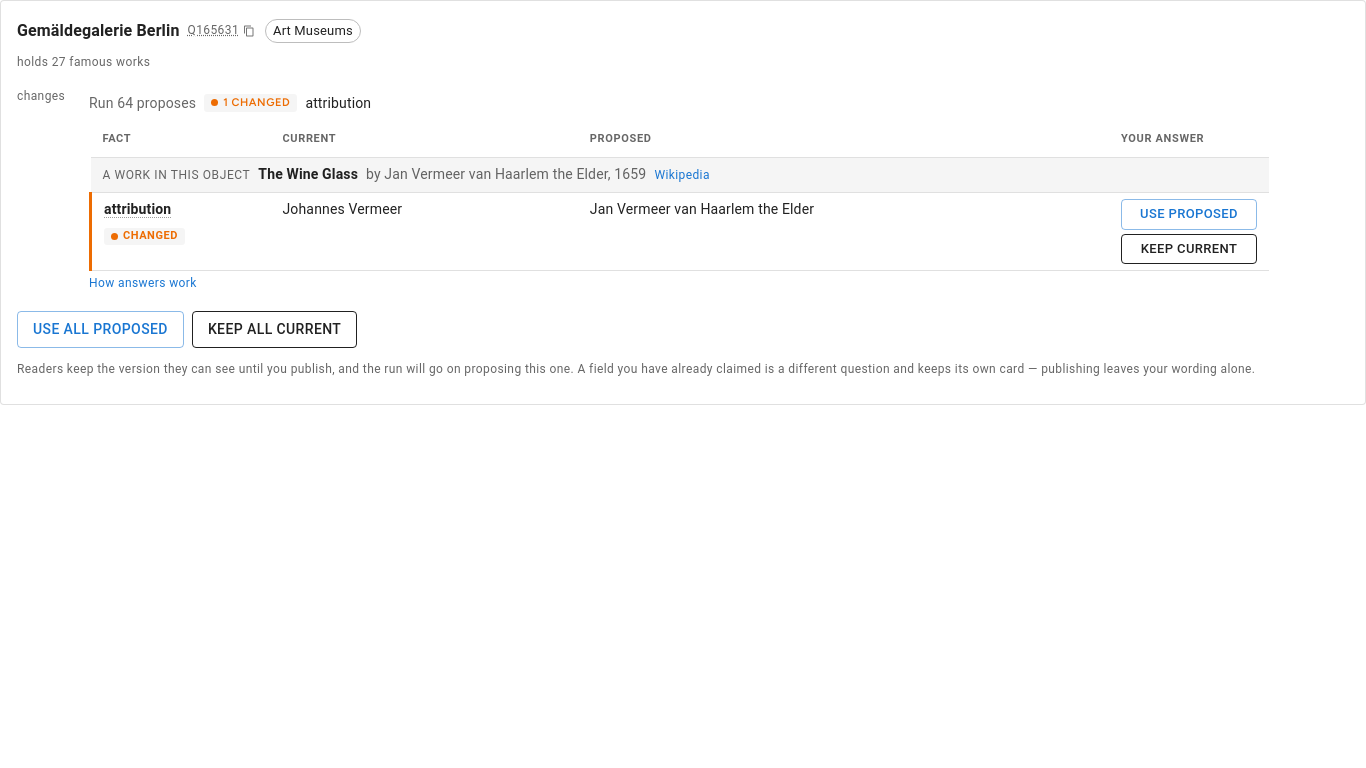
it: a held card about a part › opens the work where it can be looked at
This screenshot has width=1366, height=768.
What coordinates should you click on to do the following:
click the button "The Wine Glass"
I would click on:
 (308, 174)
Its box is [258, 164, 358, 184].
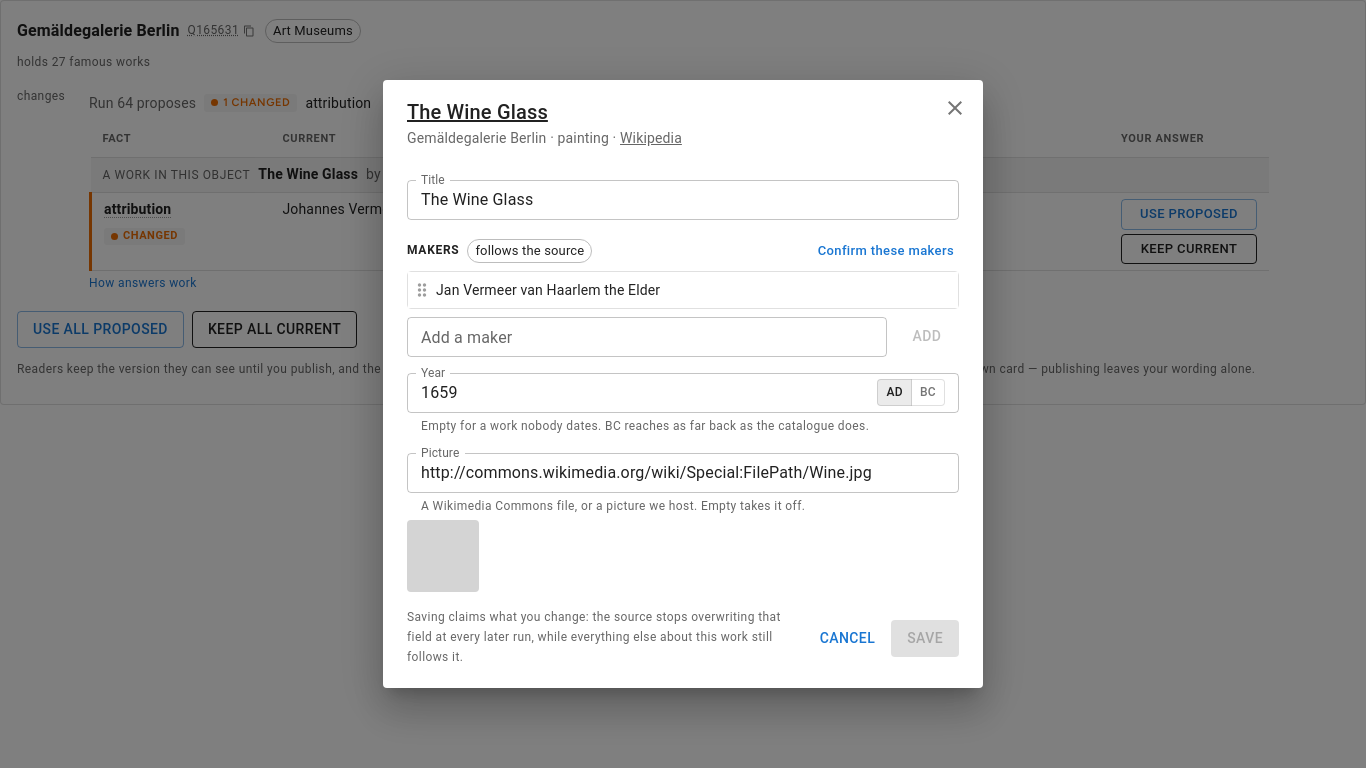
Expected: the dialog shows "The Wine Glass", [407, 100, 548, 124]
Expected: the dialog shows "painting", [407, 130, 609, 146]
